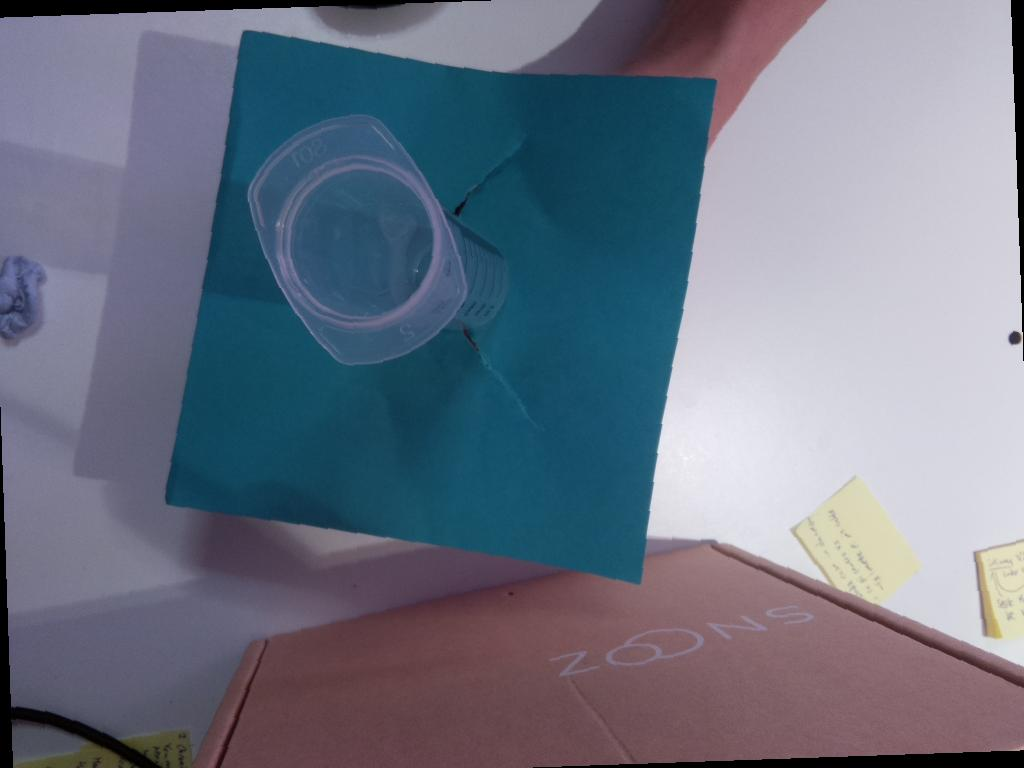clean: (244, 111, 468, 367)
